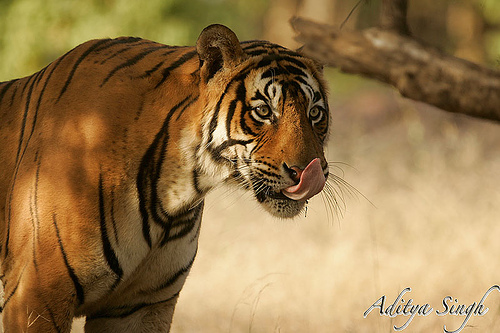Tigre: (7, 35, 329, 311)
